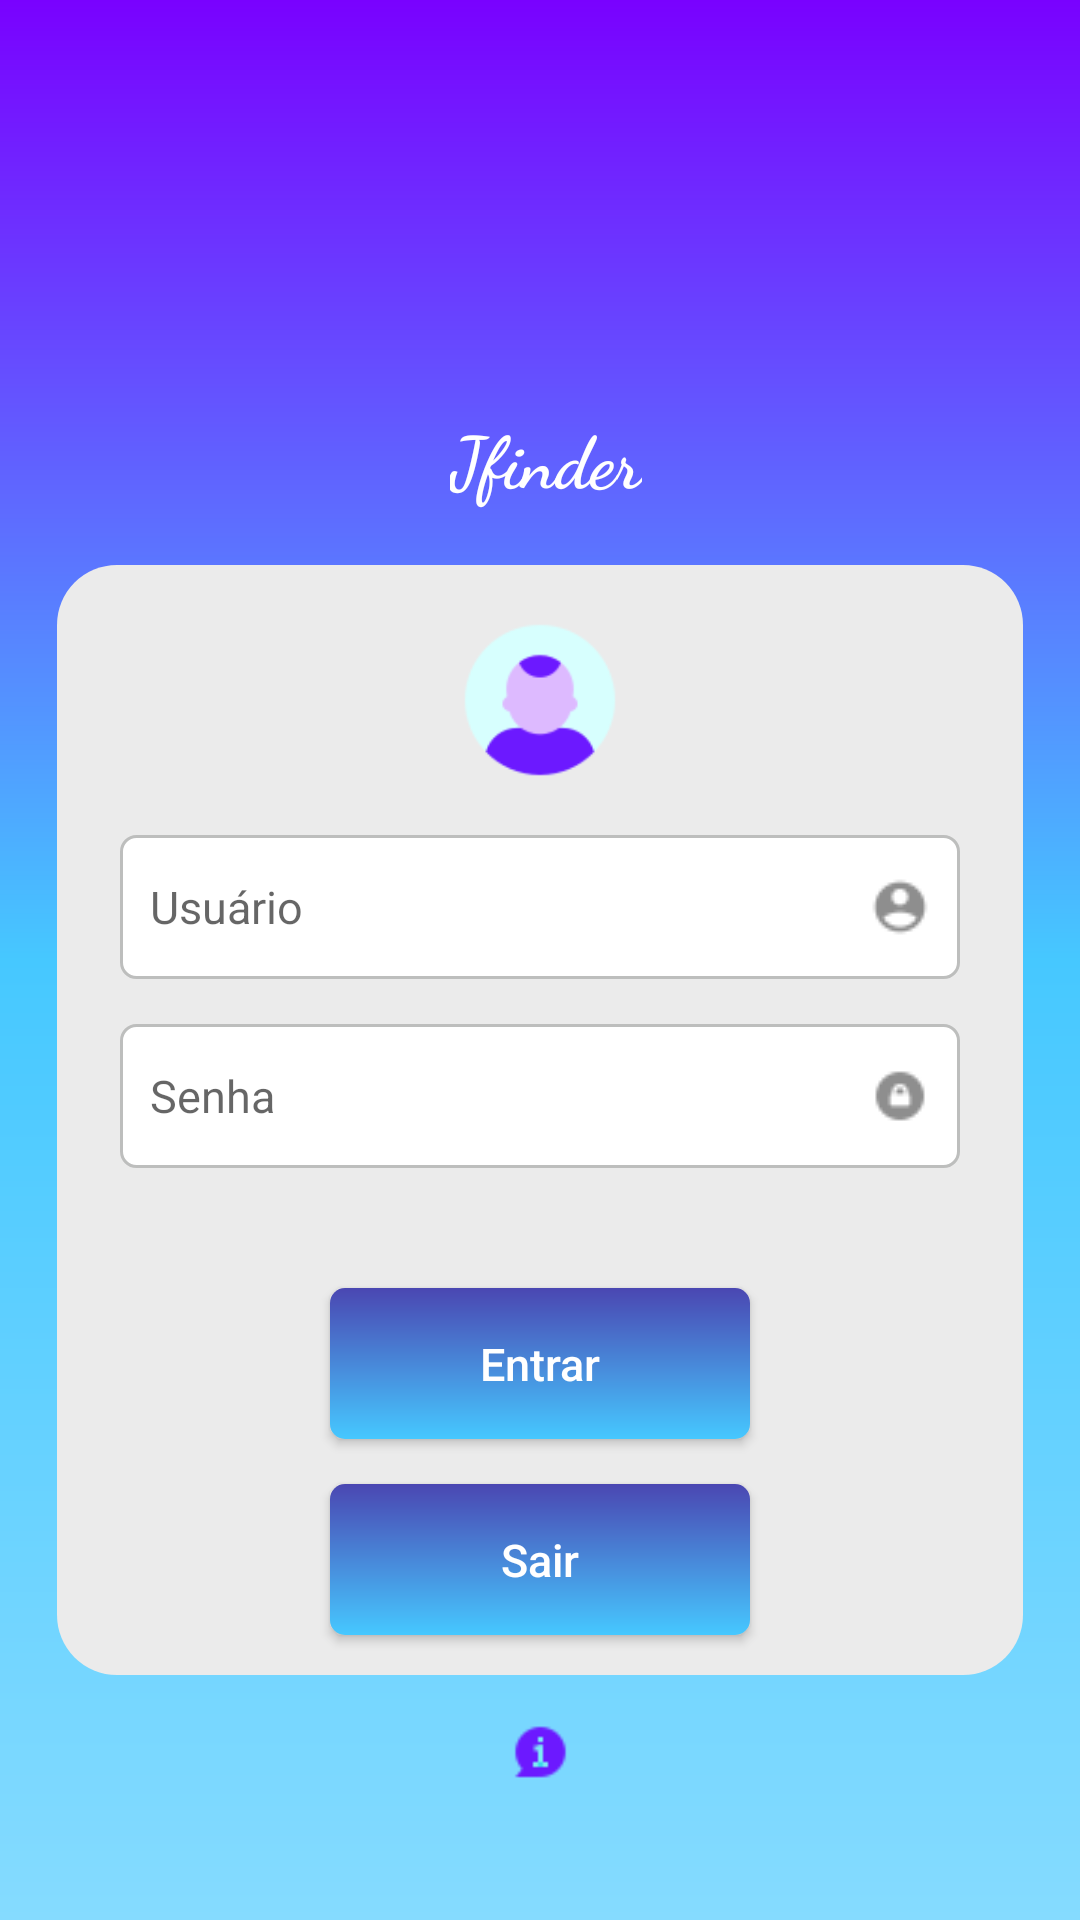

Locate icon controls on the screen. Image size 1080w x 1920h, boxes as [x1, y1, x2, y2].
aboutlogin: [515, 1726, 566, 1778]
loginuser: [485, 654, 595, 776]
